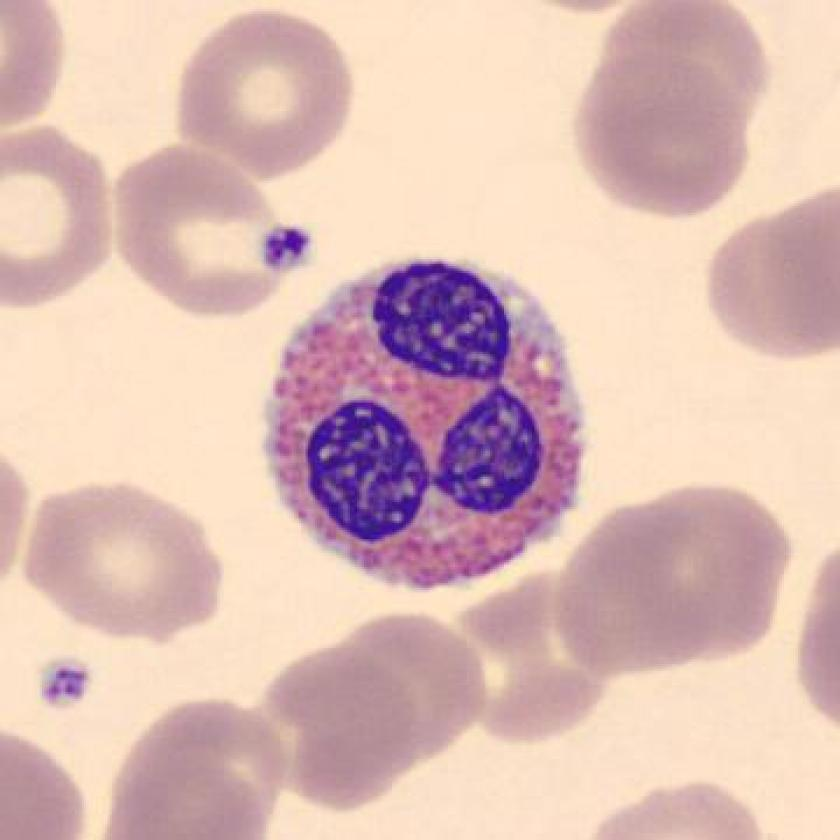eosinophil: (251, 247, 601, 608)
